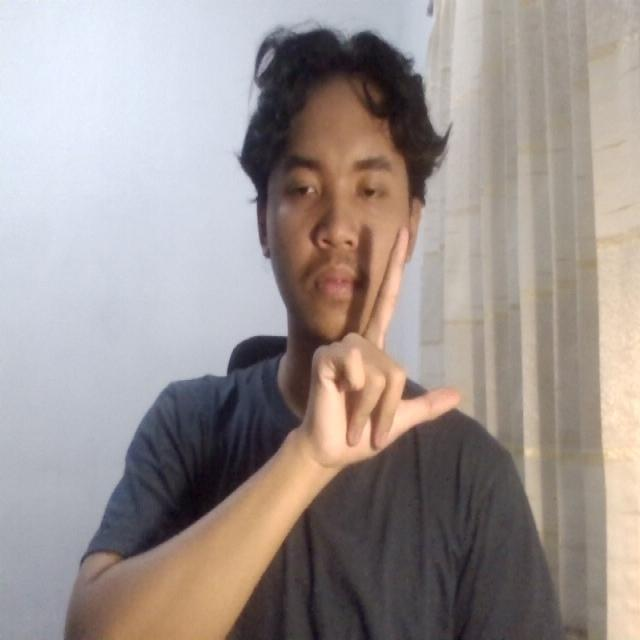I: (289, 224, 478, 489)
